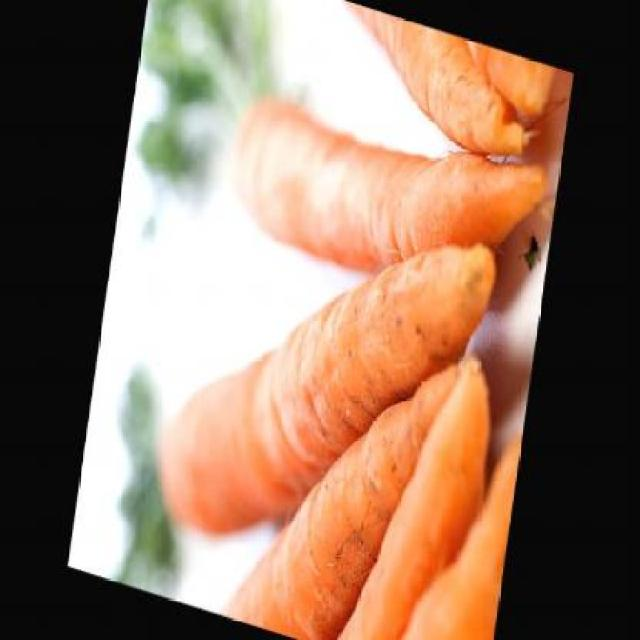carrot: (148, 151, 503, 617), (148, 258, 477, 638), (220, 70, 549, 324), (270, 302, 508, 638), (249, 0, 543, 166), (352, 391, 522, 638), (388, 17, 562, 135)
